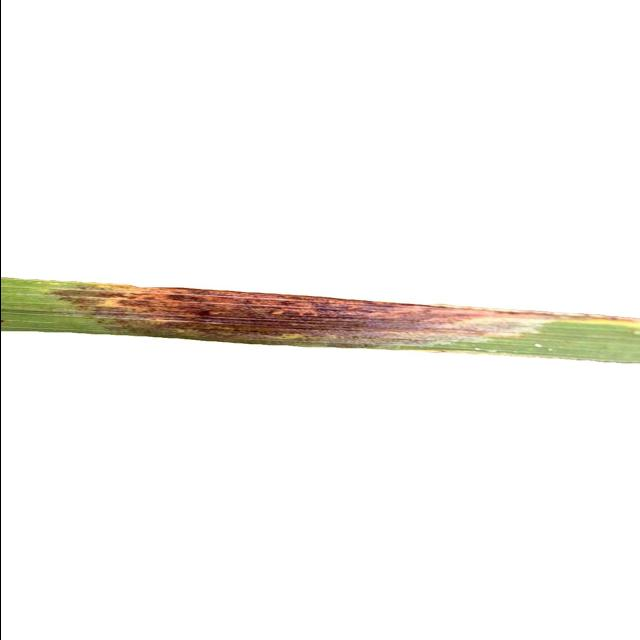Leaf scald: (0, 216, 640, 444)
